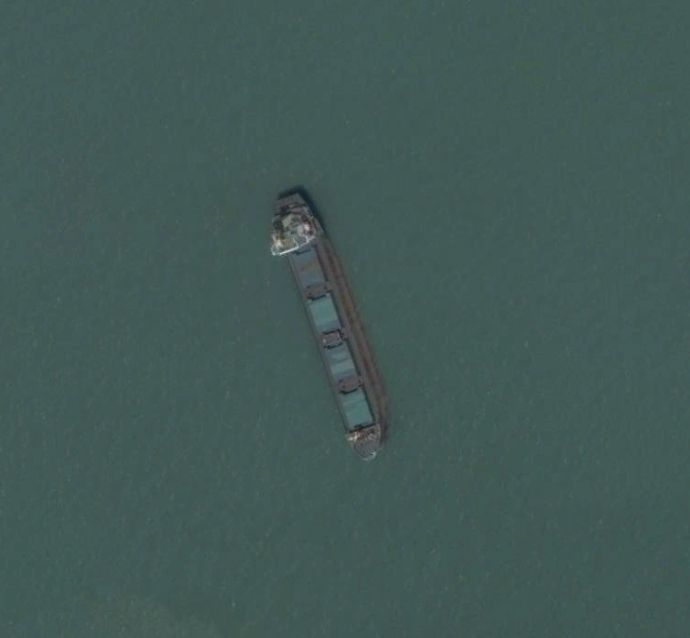boat: (269, 188, 390, 464)
